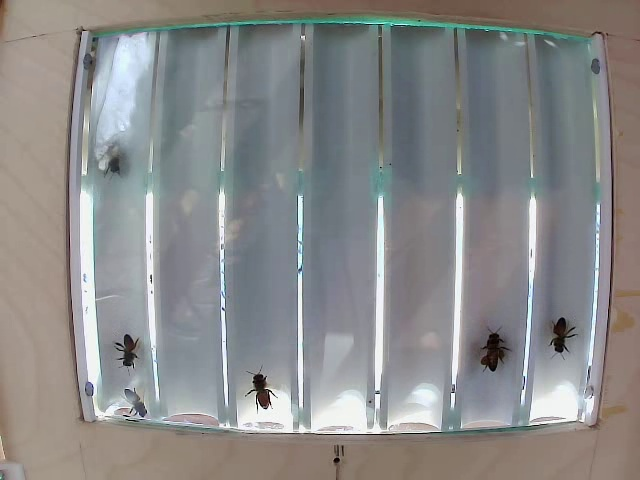bee: (240, 363, 281, 413), (104, 327, 151, 369), (482, 318, 511, 380), (119, 387, 148, 420), (543, 318, 563, 359)
